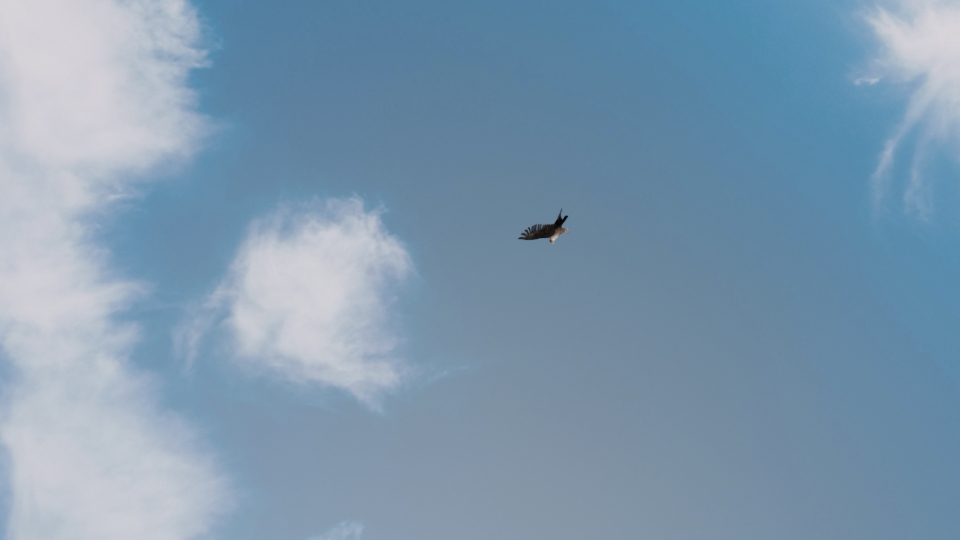bird: (515, 205, 573, 246)
